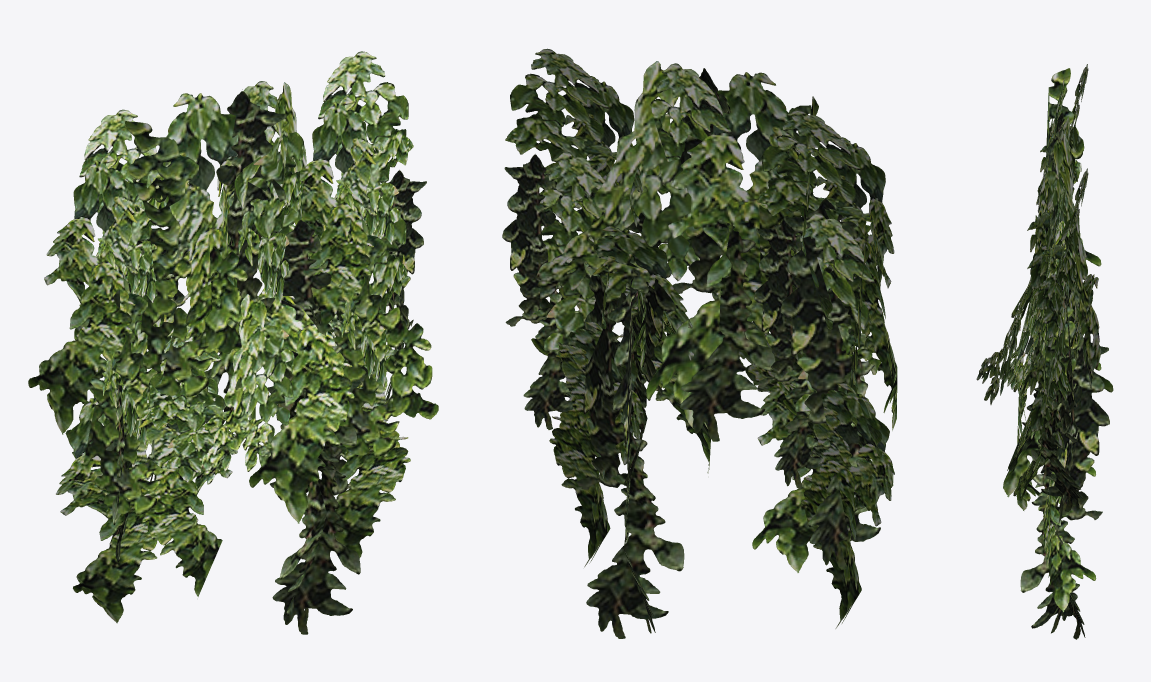
The model's file is ivy02_lod1.fbx.
3 views of the same model, side by side, from view 1: azimuth 30°, elevation 25°; view 2: azimuth 150°, elevation 25°; view 3: azimuth 270°, elevation 25° (orthographic). The views are drawn at different scales.
Visible parts, largest first — view 1: Mesh Object; view 2: Mesh Object; view 3: Mesh Object.
Part boxes in pixels (left/top/right/bottom): Mesh Object: left=28, top=51, right=438, bottom=634; Mesh Object: left=502, top=48, right=897, bottom=638; Mesh Object: left=976, top=64, right=1113, bottom=639.
Bounding box in the file's own units: 0.982 × 1.28 × 0.3638.
